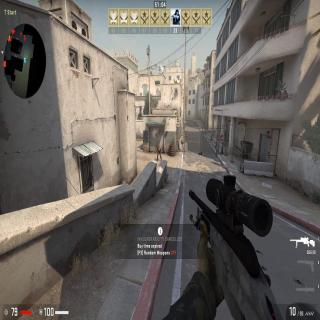T-Body: (157, 142, 162, 161)
T-Head: (158, 143, 159, 145)
